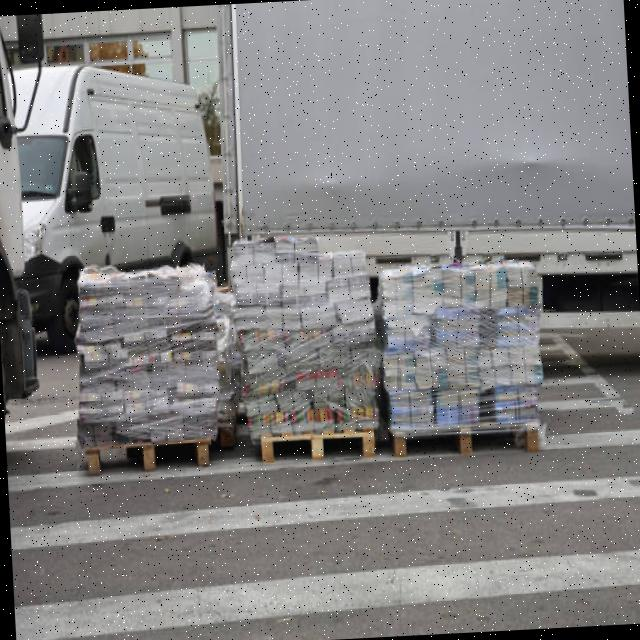Wooden-Pallets: (81, 429, 220, 479), (393, 419, 546, 464), (258, 425, 381, 473)
